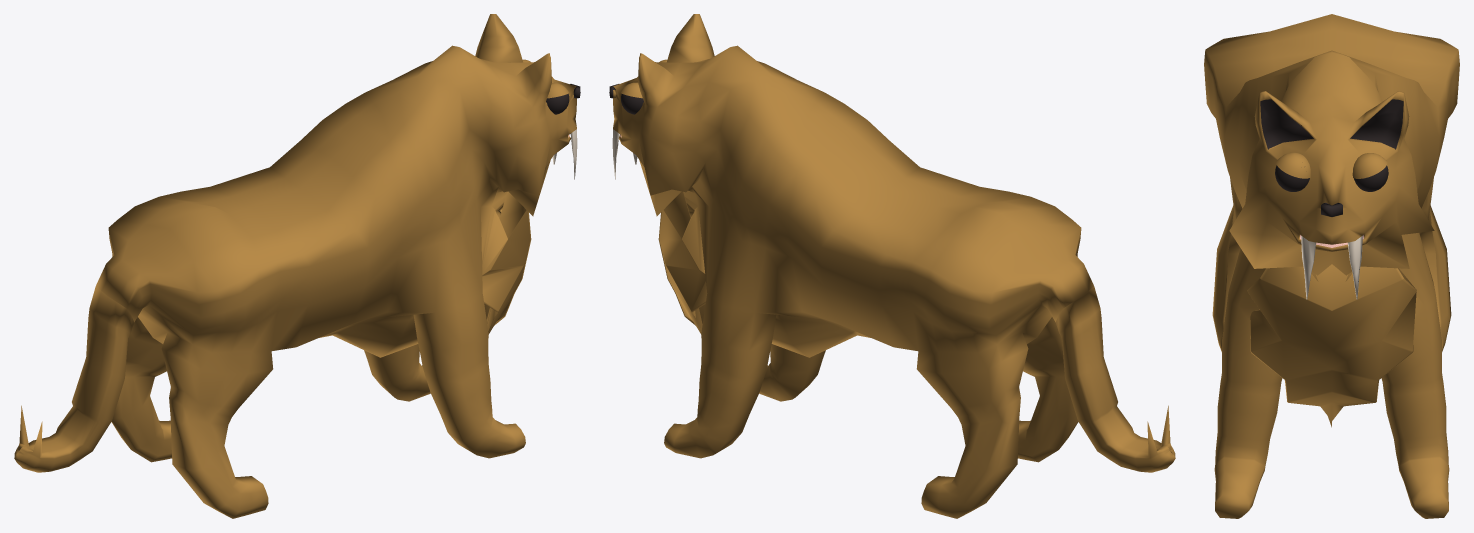
File: DenteDeSabre.fbx
3 views of the same model, side by side, from view 1: azimuth 30°, elevation 25°; view 2: azimuth 150°, elevation 25°; view 3: azimuth 270°, elevation 25° (orthographic). The views are drawn at different scales.
Visible parts, largest first — view 1: Blocosauro.002; view 2: Blocosauro.002; view 3: Blocosauro.002.
Part boxes in pixels (bbox=[...]): Blocosauro.002: bbox=[14, 14, 580, 518]; Blocosauro.002: bbox=[609, 14, 1175, 518]; Blocosauro.002: bbox=[1204, 14, 1459, 518].
Size of the model in its own units: 144 by 91.57 by 46.27.
